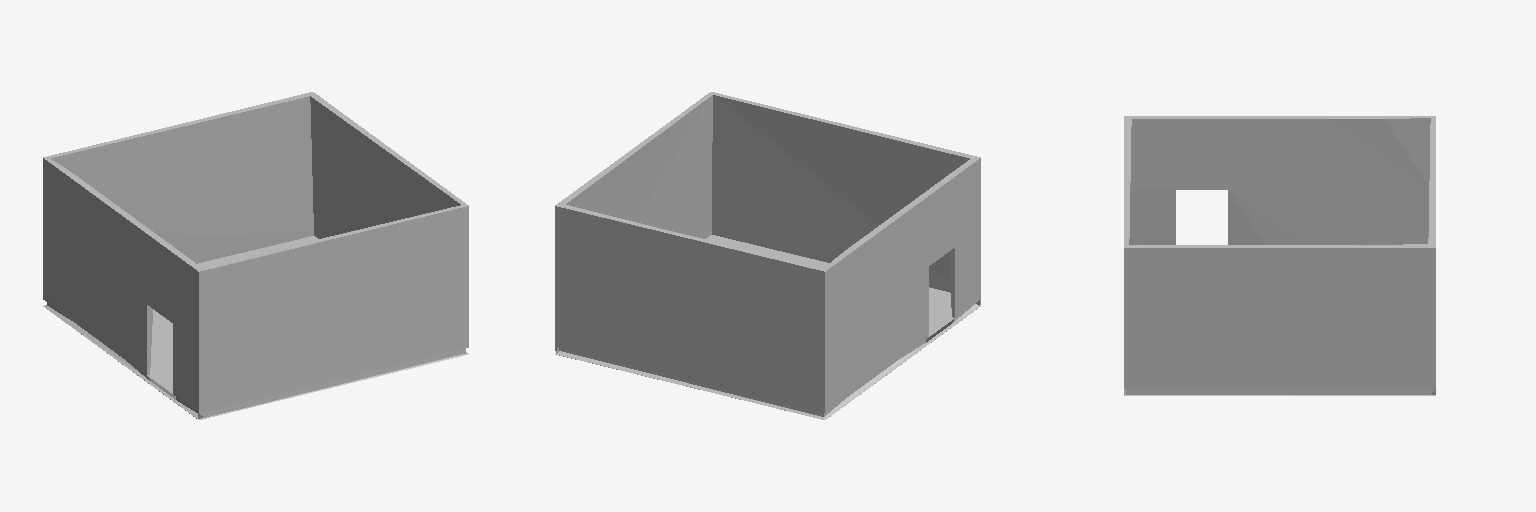
File: salletest.obj
3 renders of one model, left to right at view 1: azimuth 30°, elevation 25°; view 2: azimuth 150°, elevation 25°; view 3: azimuth 270°, elevation 25°, orthographic.
Visible parts, largest first — view 1: Plane; view 2: Plane; view 3: Plane.
Part boxes in pixels (left/top/right/bottom): Plane: left=43, top=92, right=468, bottom=419; Plane: left=555, top=92, right=980, bottom=419; Plane: left=1124, top=116, right=1435, bottom=395.
Bounding box in the file's own units: 20 × 10.5 × 20.